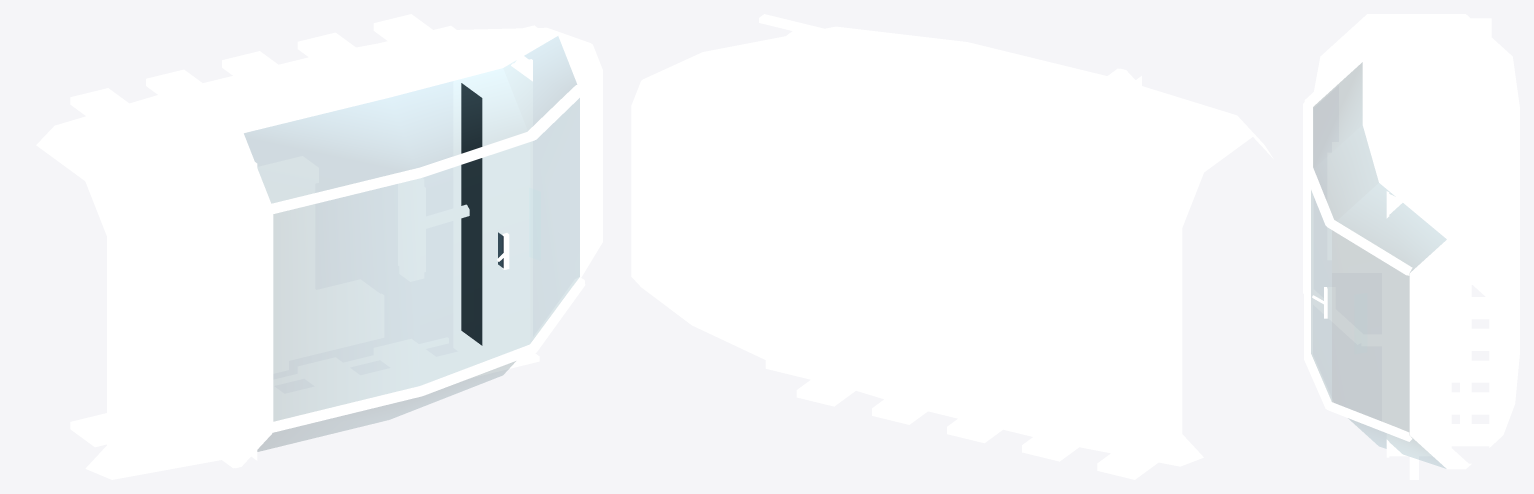
Rendered from hover-chassis.glb.
3 renders of one model, left to right at view 1: azimuth 30°, elevation 25°; view 2: azimuth 150°, elevation 25°; view 3: azimuth 270°, elevation 25°, orthographic. The views are drawn at different scales.
Visible parts, largest first — view 1: hover_chassis; view 2: hover_chassis; view 3: hover_chassis.
Part boxes in pixels (x1=…): hover_chassis: x1=36, y1=14, x2=602, y2=479; hover_chassis: x1=631, y1=14, x2=1273, y2=479; hover_chassis: x1=1303, y1=14, x2=1519, y2=479.
Bounding box in the file's own units: 2.38 × 1.38 × 0.9235.
